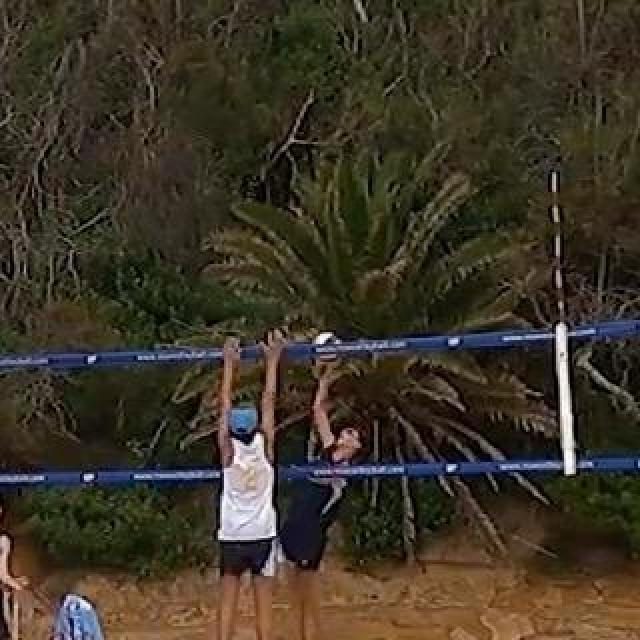volleyball: (311, 332, 341, 364)
